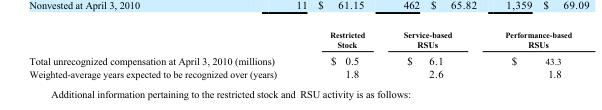table: (28, 29, 571, 78)
table column: (28, 29, 302, 78), (383, 29, 477, 78), (477, 29, 571, 78), (302, 29, 383, 78)
table column header: (28, 29, 571, 51)
table row: (28, 29, 571, 51), (28, 51, 571, 66), (28, 66, 571, 78)
